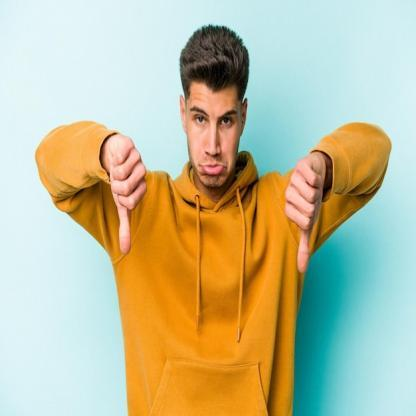thumb_down: (104, 130, 150, 258), (282, 143, 326, 276)
